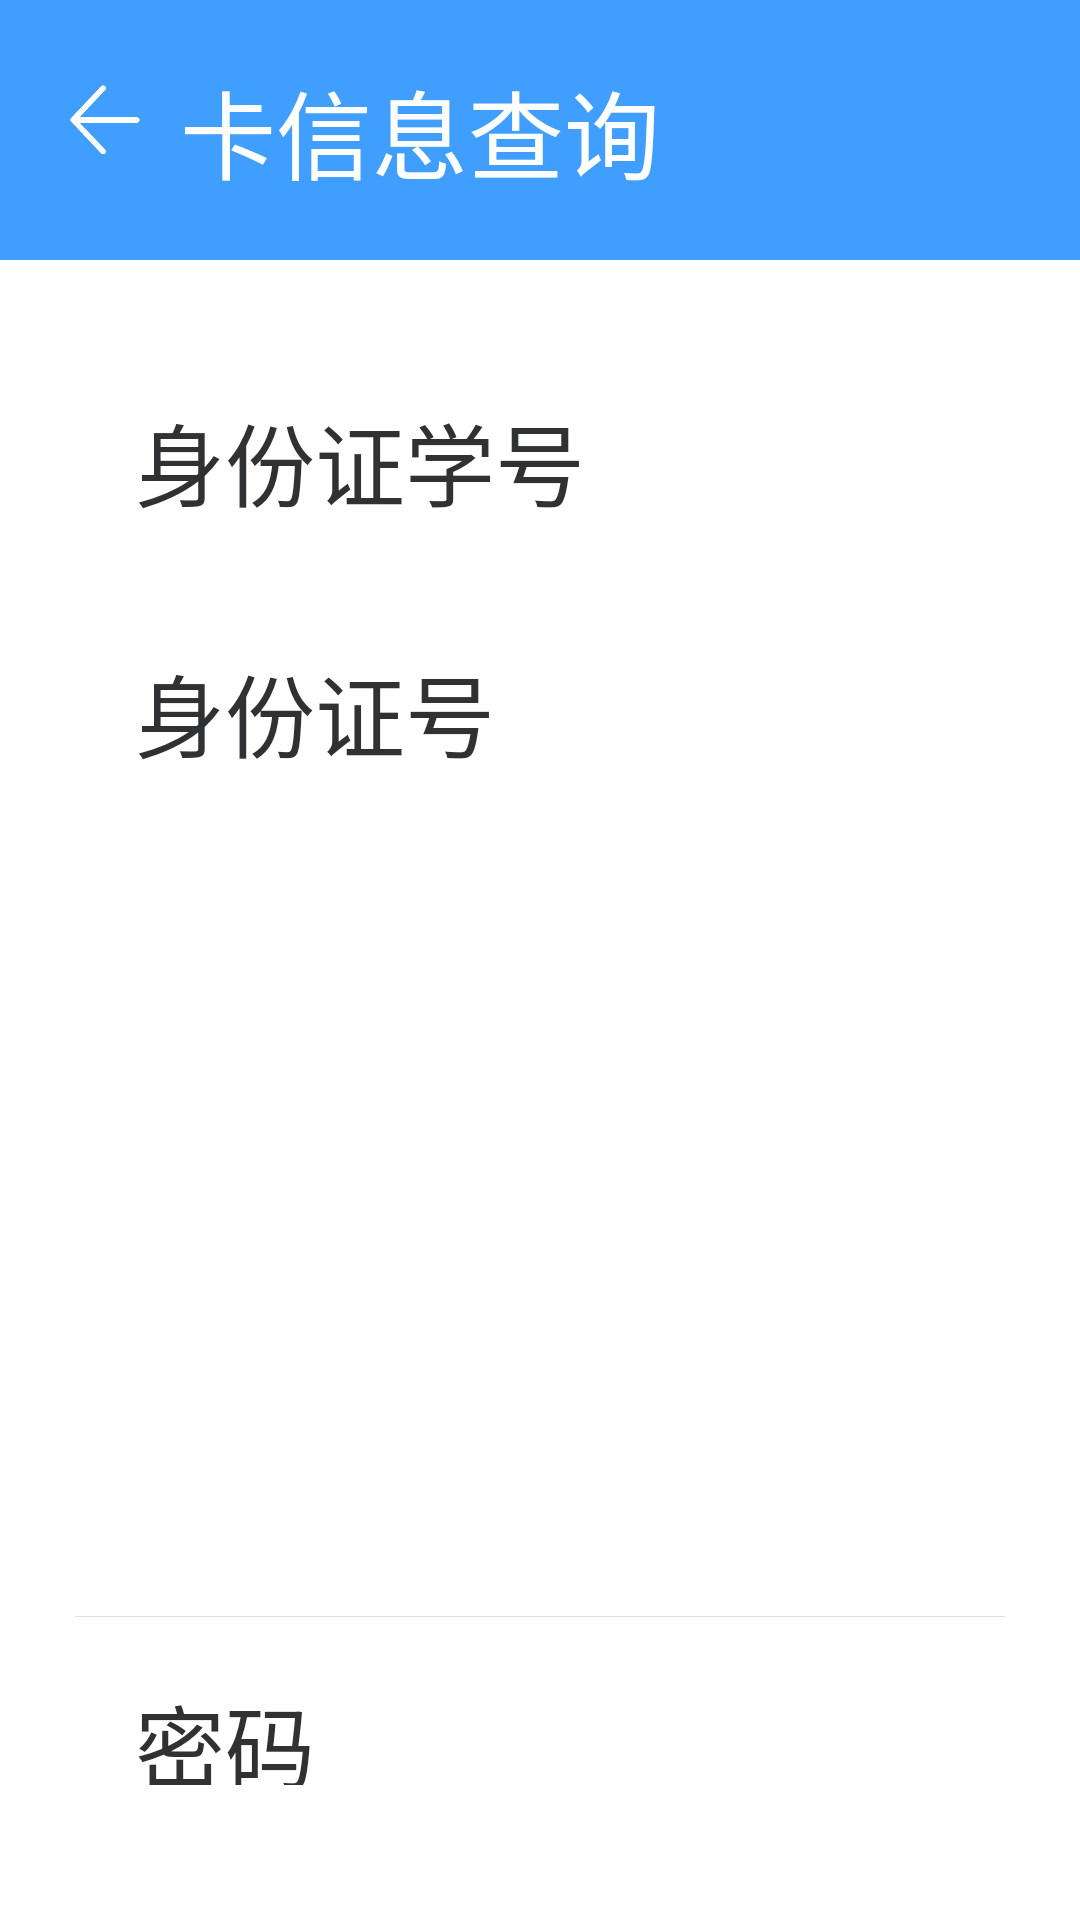

Where icons sit on this 1080 x 1920 app screen, as (left=x1, top=y1, right=x2, bottom=y2):
direction left: (left=70, top=85, right=140, bottom=154)
